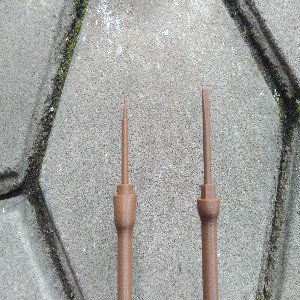obeng: (196, 87, 221, 300)
solder: (112, 95, 138, 300)
